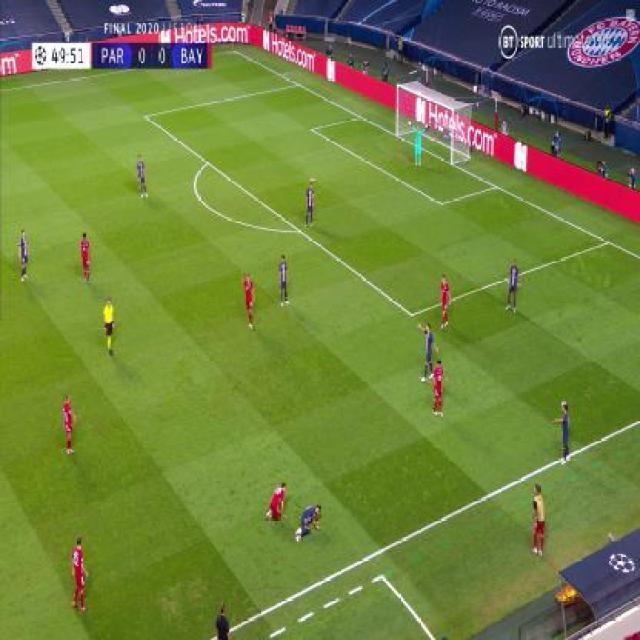player: (69, 536, 89, 613), (553, 399, 572, 467), (530, 482, 547, 558), (418, 321, 438, 381), (61, 391, 78, 456), (296, 502, 322, 544), (430, 359, 449, 416), (265, 483, 287, 526), (102, 296, 116, 358), (505, 260, 521, 313), (438, 273, 452, 332), (241, 272, 255, 331), (18, 228, 31, 284), (277, 253, 290, 307), (78, 231, 91, 284), (215, 600, 232, 640), (305, 179, 316, 230), (135, 155, 148, 198), (413, 127, 422, 167)
